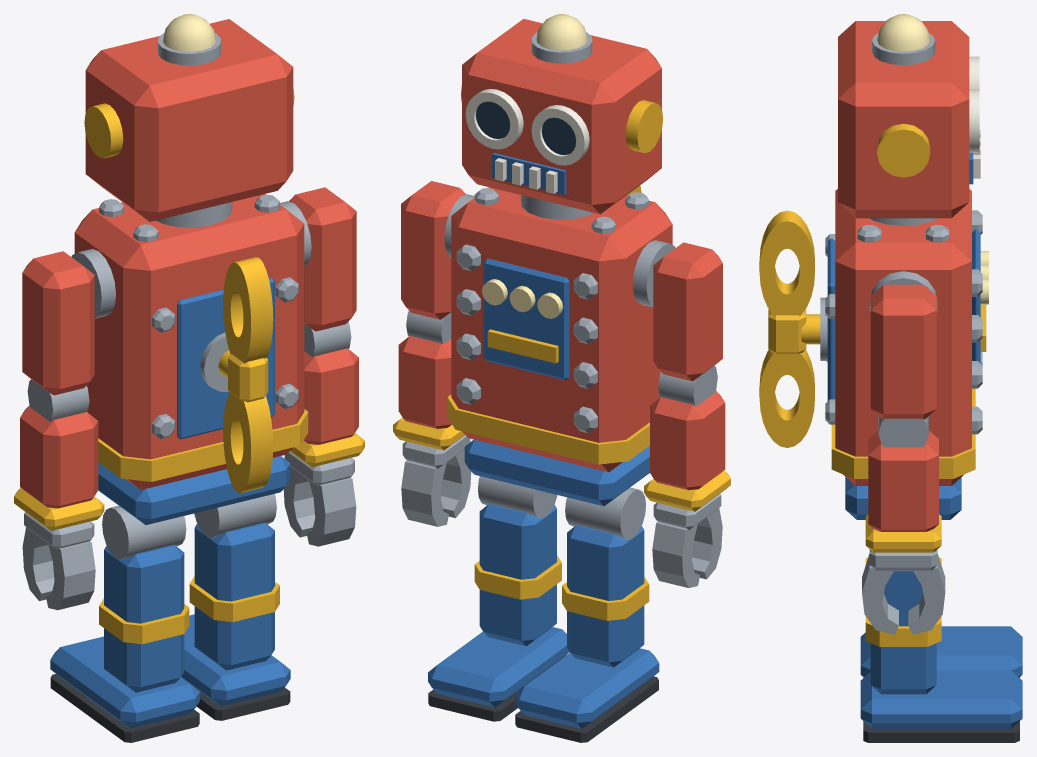
Rendered from unit-windupbot.glb.
3 views of the same model, side by side, from view 1: azimuth 30°, elevation 25°; view 2: azimuth 150°, elevation 25°; view 3: azimuth 270°, elevation 25° (orthographic). The views are drawn at different scales.
Parts seen in each view (by area): view 1: torso, head, windup_key, arm_left, leg_right, leg_left, arm_right, forearm_left, back_plate, foot_left, pelvis, forearm_right (+24 smaller); view 2: torso, head, arm_left, leg_left, leg_right, foot_left, foot_right, forearm_left, arm_right, chest_plate, pelvis, belly_band (+28 smaller); view 3: head, torso, windup_key, arm_right, foot_right, forearm_right, leg_right, foot_left, ear_right, sole_right, belly_band, claw_right_front (+13 smaller).
Part boxes in pixels (left/top/right/bottom): torso: left=74, top=194, right=304, bottom=489; head: left=85, top=19, right=293, bottom=221; windup_key: left=218, top=257, right=273, bottom=492; arm_left: left=22, top=251, right=94, bottom=395; leg_right: left=194, top=522, right=274, bottom=670; leg_left: left=104, top=544, right=184, bottom=692; arm_right: left=289, top=187, right=356, bottom=331; forearm_left: left=20, top=405, right=98, bottom=508; back_plate: left=177, top=278, right=274, bottom=439; foot_left: left=50, top=636, right=199, bottom=728; pelvis: left=98, top=456, right=290, bottom=524; forearm_right: left=303, top=348, right=358, bottom=444; torso: left=451, top=187, right=672, bottom=472; head: left=462, top=18, right=661, bottom=214; arm_left: left=653, top=242, right=722, bottom=381; leg_left: left=567, top=525, right=644, bottom=667; leg_right: left=479, top=503, right=556, bottom=646; foot_left: left=515, top=648, right=659, bottom=728; foot_right: left=428, top=627, right=569, bottom=707; forearm_left: left=650, top=391, right=725, bottom=490; arm_right: left=401, top=181, right=465, bottom=319; chest_plate: left=483, top=258, right=569, bottom=380; pelvis: left=464, top=439, right=649, bottom=506; belly_band: left=447, top=394, right=649, bottom=464; head: left=838, top=21, right=969, bottom=218; torso: left=835, top=189, right=971, bottom=485; windup_key: left=759, top=210, right=820, bottom=447; arm_right: left=870, top=284, right=936, bottom=419; foot_right: left=860, top=670, right=1022, bottom=728; forearm_right: left=868, top=430, right=938, bottom=531; leg_right: left=870, top=570, right=936, bottom=694; foot_left: left=860, top=626, right=1022, bottom=677; ear_right: left=877, top=123, right=930, bottom=177; sole_right: left=863, top=721, right=1019, bottom=742; belly_band: left=831, top=388, right=975, bottom=478; claw_right_front: left=908, top=554, right=945, bottom=634.
Bounding box in the file's own units: 14.5 × 29.95 × 10.4.
